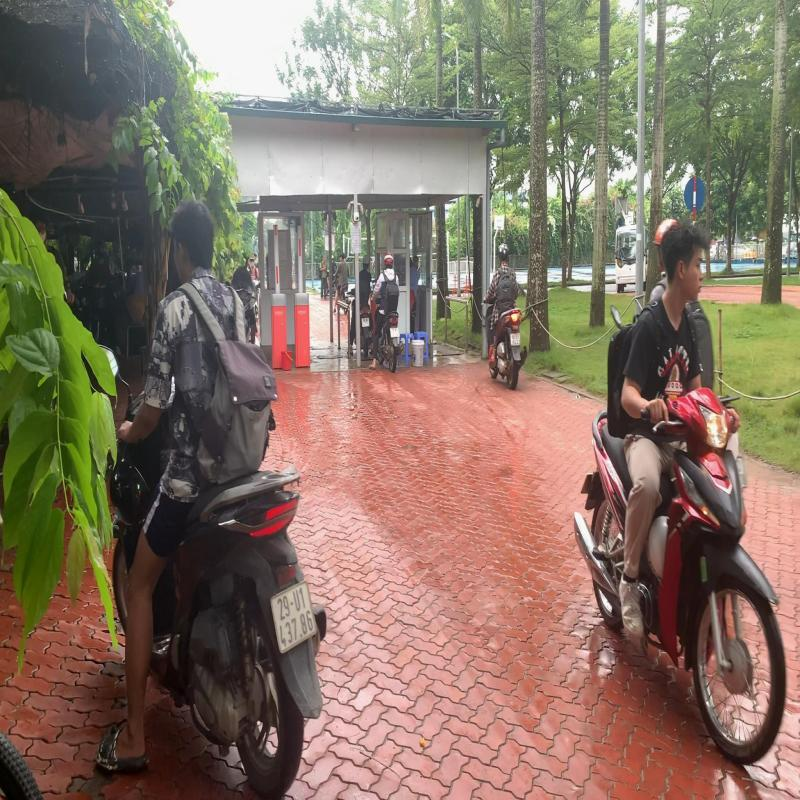nohelmet: (168, 189, 224, 283)
